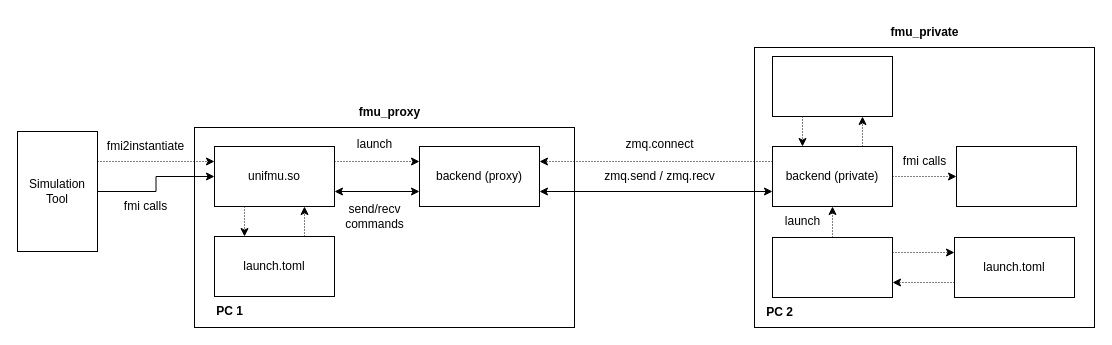
Image size: 1112x345. Some labels were removed from this diagram. Each missing label, with the centre of its shape:
client: [832,267]
endpoint.toml: [832,86]
model: [1016,176]
